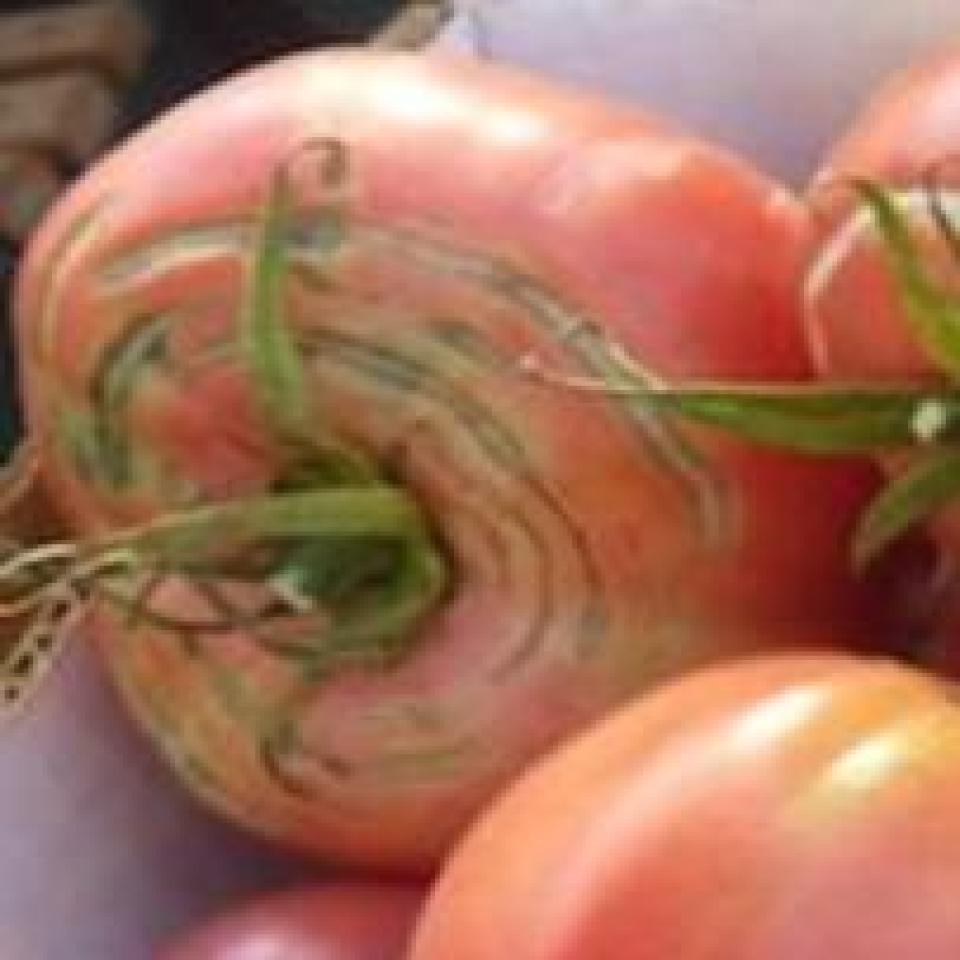Cracking: (97, 214, 783, 550), (154, 324, 614, 673), (97, 598, 498, 826), (24, 182, 104, 380)
